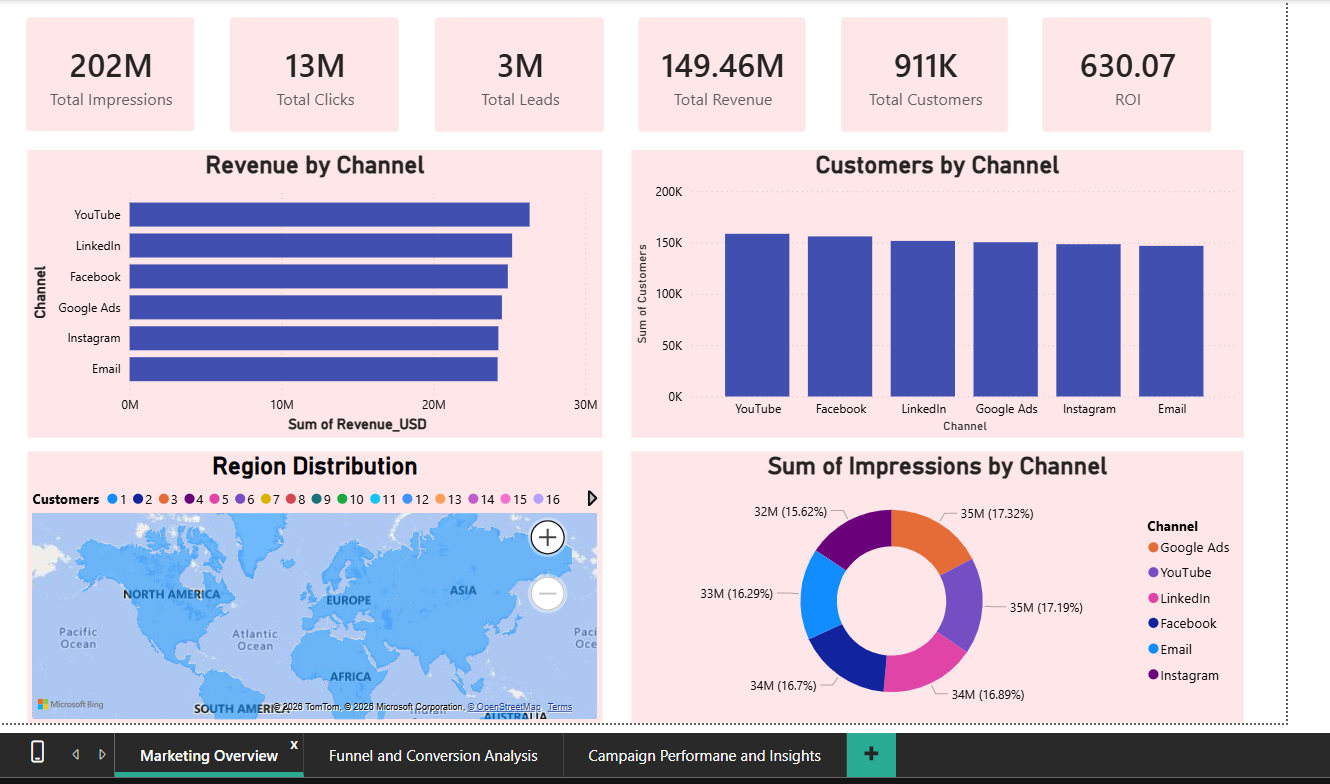

The dashboard page shown, as its layout file describes it:
{"tool":"powerbi","page":{"name":"Marketing Overview","canvas":[1280,720],"ordinal":0},"visuals":[{"type":"cardVisual","fields":{"Data":["Marketing_Funnel_Data.Total Impressions"]},"box":[8.9,0,202.2,148.7],"z":0},{"type":"cardVisual","fields":{"Data":["Marketing_Funnel_Data.Total Clicks"]},"box":[211.8,0,203.2,149.7],"z":1000},{"type":"cardVisual","fields":{"Data":["Marketing_Funnel_Data.Total Leads"]},"box":[415,0,203.2,149.7],"z":2000},{"type":"cardVisual","fields":{"Data":["Marketing_Funnel_Data.Total Revenue"]},"box":[618.2,0,201.1,149.7],"z":3000},{"type":"cardVisual","fields":{"Data":["Marketing_Funnel_Data.Total Customers"]},"box":[819.3,0,201.1,149.7],"z":4000},{"type":"cardVisual","fields":{"Data":["Marketing_Funnel_Data.ROI"]},"box":[1020.3,0,203.2,149.7],"z":5000},{"type":"clusteredBarChart","title":"Revenue by Channel","fields":{"Category":["Marketing_Funnel_Data.Channel"],"Y":["Sum(Marketing_Funnel_Data.Revenue_USD)"]},"box":[27.4,149.3,572.2,286.1],"z":6000},{"type":"columnChart","title":"Customers by Channel","fields":{"Category":["Marketing_Funnel_Data.Channel"],"Y":["Sum(Marketing_Funnel_Data.Customers)"]},"box":[628.2,149.3,609.5,286.1],"z":7000},{"type":"filledMap","title":"Region Distribution","fields":{"Category":["Marketing_Funnel_Data.Region"],"Series":["Marketing_Funnel_Data.Customers"]},"box":[27.4,449.1,572.2,271.2],"z":8000},{"type":"donutChart","fields":{"Category":["Marketing_Funnel_Data.Channel"],"Y":["Sum(Marketing_Funnel_Data.Impressions)"]},"box":[628.2,449.1,609.5,271.2],"z":9000}]}

Visuals, with their boxes on the page's 1280x720 design canvas (x1, y1, x2, y2). These are canvas units, not pixel positions in the 1330x784 screenshot, which may show the page scaled, cropped or inside an application window:
cardVisual - Marketing_Funnel_Data.Total Impressions: 9,0,211,149
cardVisual - Marketing_Funnel_Data.Total Clicks: 212,0,415,150
cardVisual - Marketing_Funnel_Data.Total Leads: 415,0,618,150
cardVisual - Marketing_Funnel_Data.Total Revenue: 618,0,819,150
cardVisual - Marketing_Funnel_Data.Total Customers: 819,0,1020,150
cardVisual - Marketing_Funnel_Data.ROI: 1020,0,1224,150
"Revenue by Channel" clusteredBarChart: 27,149,600,435
"Customers by Channel" columnChart: 628,149,1238,435
"Region Distribution" filledMap: 27,449,600,720
donutChart - Marketing_Funnel_Data.Channel x Sum(Marketing_Funnel_Data.Impressions): 628,449,1238,720
